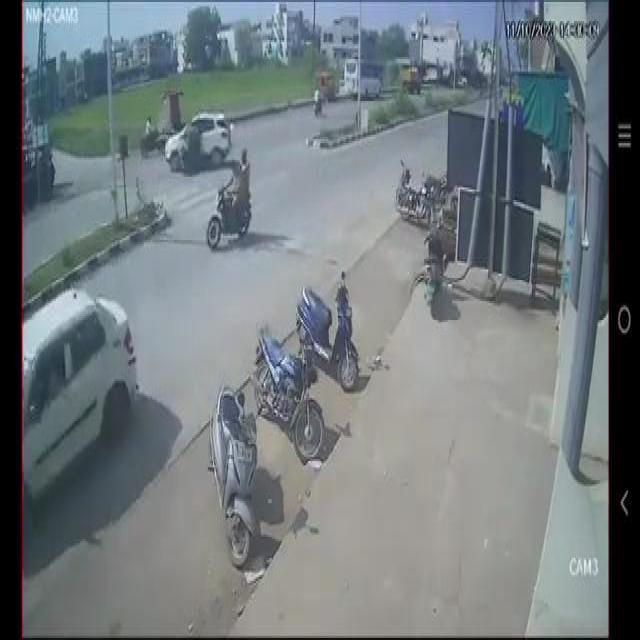accident: (162, 95, 236, 185)
